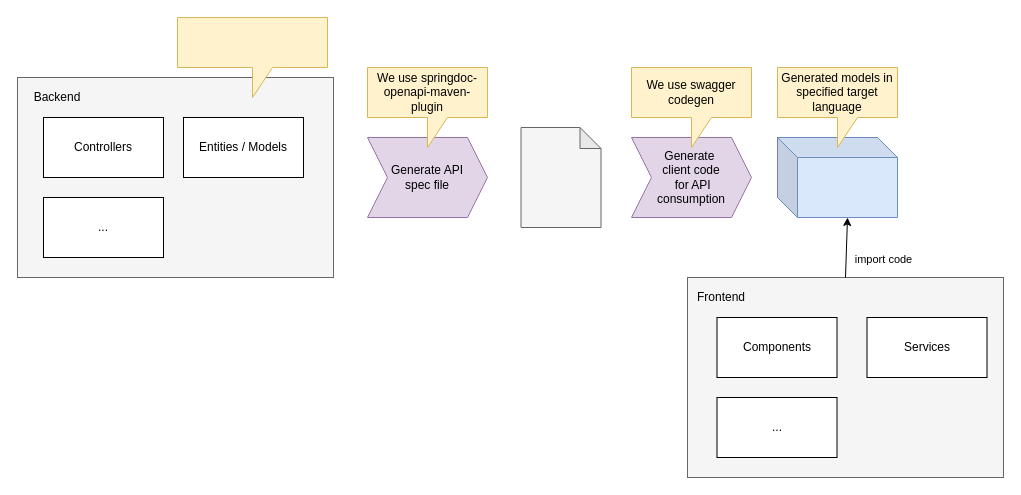
The diagram is 1021 pixels wide and 495 high, and some of its shapes have lost their labels. Each missing label, with the box of its shape:
In our case Java Spring Boot application (could be any other language): (176, 16, 328, 98)
New generated code: (776, 136, 898, 218)
OpenAPI spec file (json/yaml): (520, 126, 601, 228)
